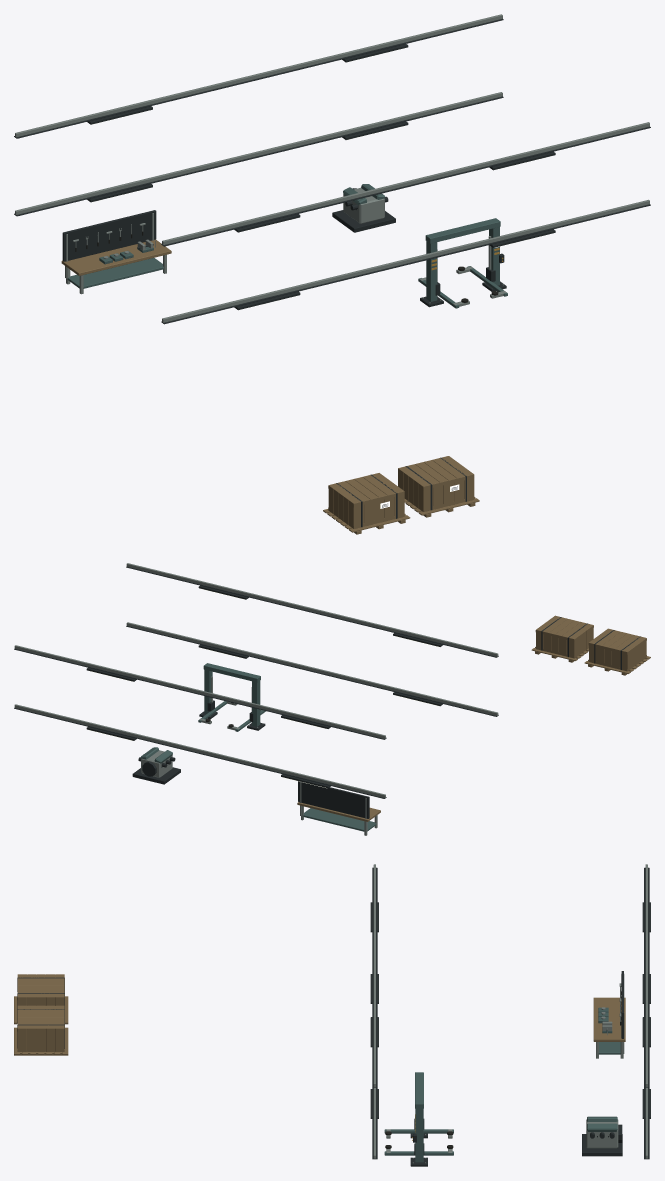
Rendered from workshop-equipment-GAR-hOcn.glb.
The picture shows the model from 3 angles, top to bottom: view 1: azimuth 30°, elevation 25°; view 2: azimuth 150°, elevation 25°; view 3: azimuth 270°, elevation 25°; orthographic projection. The views are drawn at different scales.
Parts seen in each view (by area): view 1: salient_workshop_equipment; view 2: salient_workshop_equipment; view 3: salient_workshop_equipment.
Boxes of the visible parts, x1,y1,x2,y2 form: salient_workshop_equipment: [14, 14, 650, 534]; salient_workshop_equipment: [14, 563, 650, 835]; salient_workshop_equipment: [14, 864, 650, 1166].
Size of the model in its own units: 21.25 by 6.19 by 25.77.
